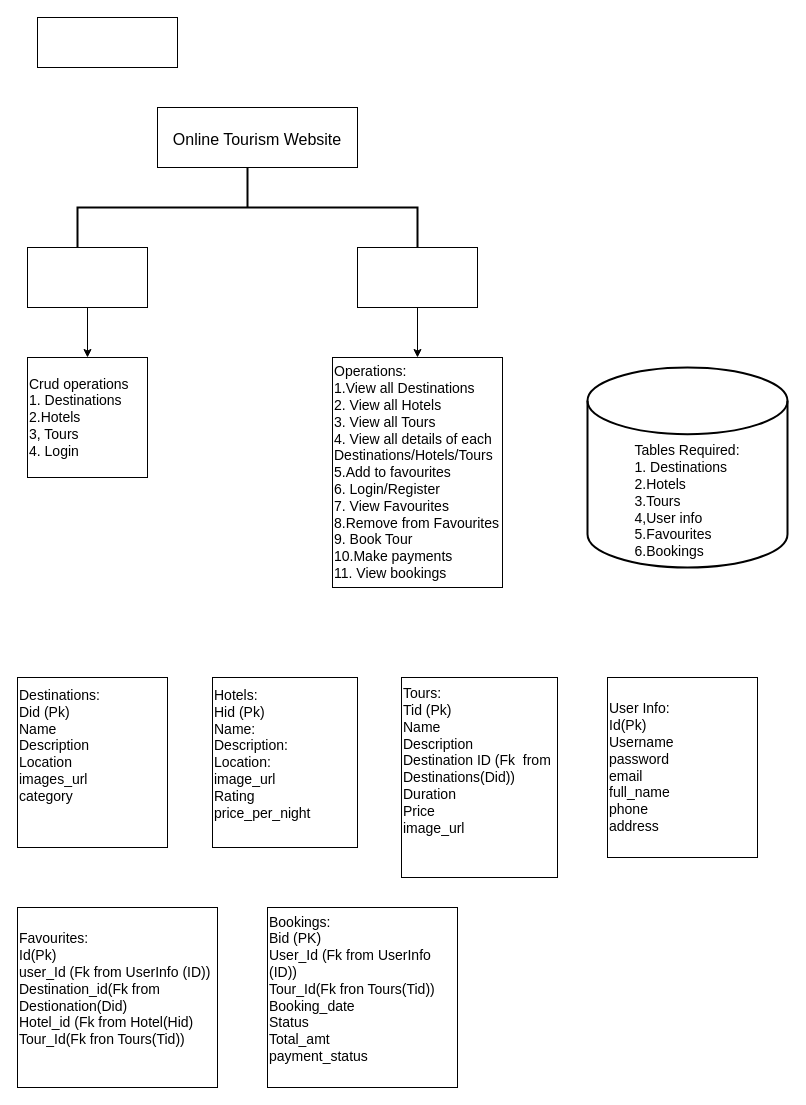
Some shapes in this 806 by 1105 pixel diagram are drawn without their labels. The shapes that lost their labels are listed below. From the top down, each one's centre as x and y in pixels, then its label:
the point at 107,42: Flask Project
the point at 87,277: Admin
the point at 417,277: User
